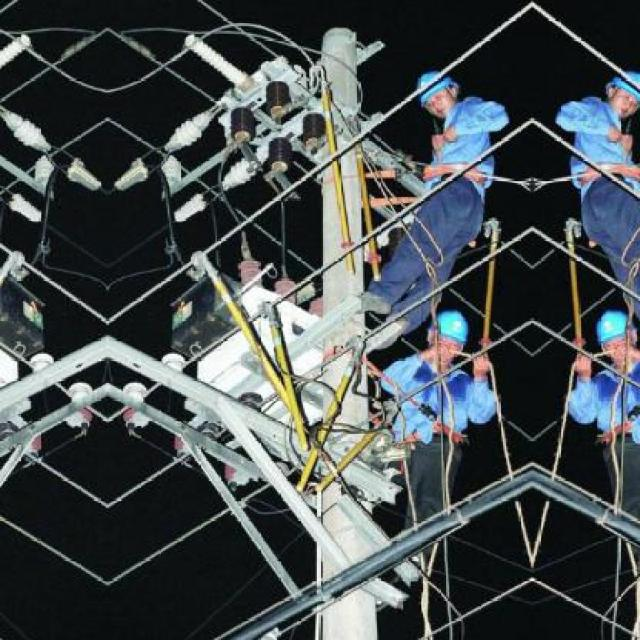helmet: (412, 68, 462, 120), (598, 67, 638, 121), (436, 305, 470, 357), (592, 305, 626, 357)
